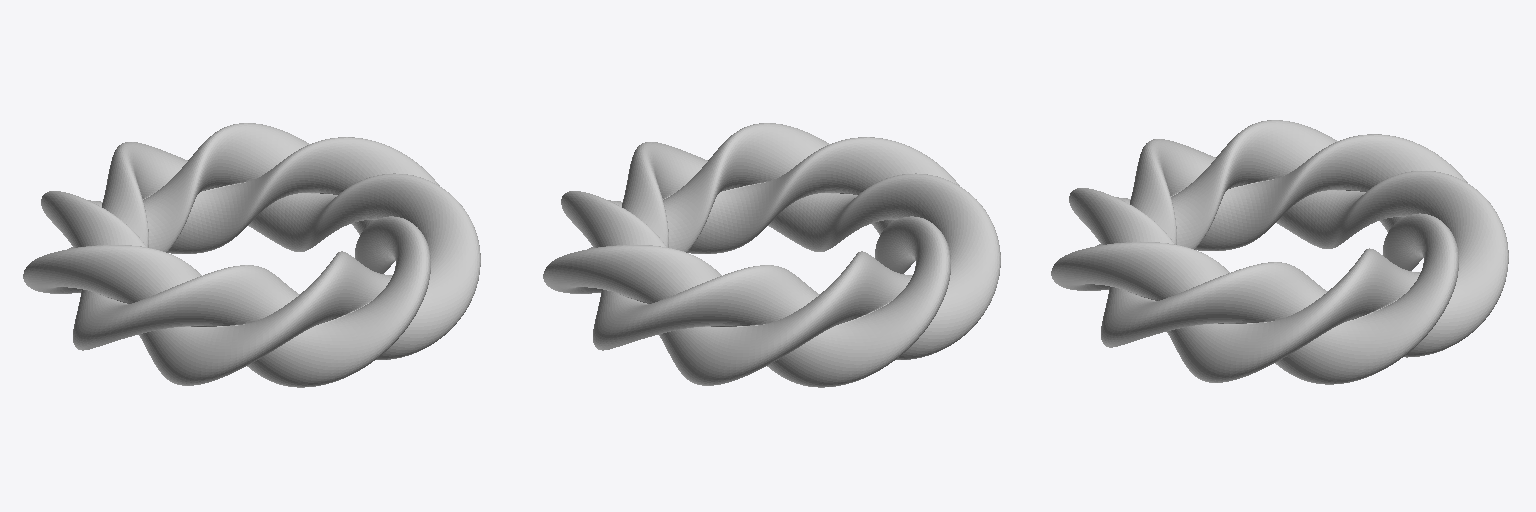
Rendered from twistedtorus.obj.
The picture shows the model from 3 angles: view 1: azimuth 30°, elevation 25°; view 2: azimuth 150°, elevation 25°; view 3: azimuth 270°, elevation 25°; orthographic projection.
Parts seen in each view (by area): view 1: XYZ_Function.009; view 2: XYZ_Function.009; view 3: XYZ_Function.009.
Boxes of the visible parts, x1=… form: XYZ_Function.009: x1=23, y1=123, x2=480, y2=387; XYZ_Function.009: x1=543, y1=123, x2=1000, y2=387; XYZ_Function.009: x1=1051, y1=120, x2=1508, y2=384.
Bounding box in the file's own units: 16.17 × 4.5 × 16.33.